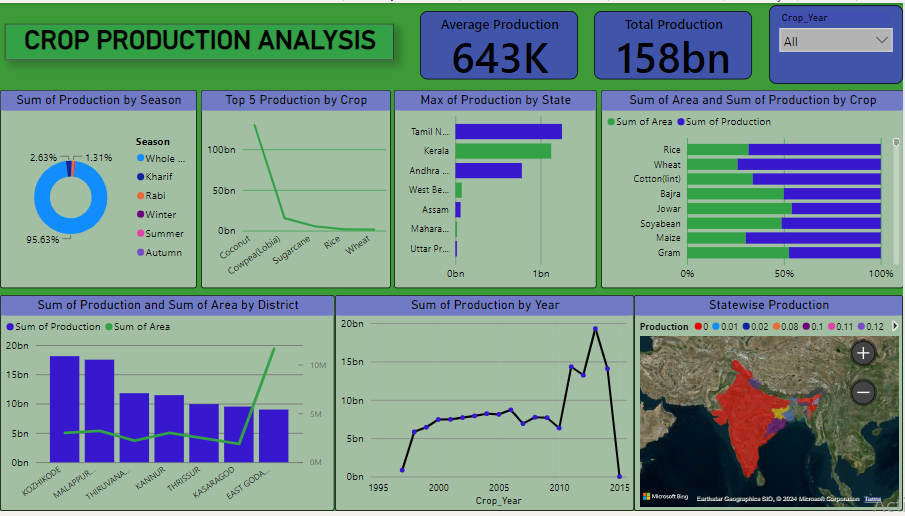

The dashboard page shown, as its layout file describes it:
{"tool":"powerbi","page":{"name":"Page 1","canvas":[1280,720],"ordinal":0},"visuals":[{"type":"lineChart","title":"Sum of Production by Year","fields":{"Category":["Crop Production data.Crop_Year"],"Y":["Sum(Crop Production data.Production)"]},"box":[474.3,414.3,424.3,305.7],"z":0},{"type":"donutChart","fields":{"Category":["Crop Production data.Season"],"Y":["Sum(Crop Production data.Production)"]},"box":[0,122.9,278.6,281.4],"z":1000},{"type":"clusteredBarChart","title":"Max of Production by State","fields":{"Y":["Max(Crop Production data.Production)"],"Category":["Crop Production data.State_Name"]},"box":[558.6,122.9,287.1,281.4],"z":2000},{"type":"lineChart","title":"Top 5 Production by Crop","fields":{"Category":["Crop Production data.Crop"],"Y":["Sum(Crop Production data.Production)"]},"box":[284.3,122.9,268.6,281.4],"z":3000},{"type":"hundredPercentStackedBarChart","fields":{"Category":["Crop Production data.Crop"],"Y":["Sum(Crop Production data.Area)","Sum(Crop Production data.Production)"]},"box":[851.4,122.9,428.6,281.4],"z":4000},{"type":"filledMap","title":"Statewise Production","fields":{"Series":["Crop Production data.Production"],"Category":["Crop Production data.State_Name"]},"box":[898.6,413.9,381.3,306.1],"z":5000},{"type":"lineClusteredColumnComboChart","title":"Sum of Production and Sum of Area by District","fields":{"Category":["Crop Production data.District_Name"],"Y":["Sum(Crop Production data.Production)"],"Y2":["Sum(Crop Production data.Area)"]},"box":[0,414.3,474.3,305.7],"z":6000},{"type":"card","title":"Average Production","fields":{"Values":["Avg(Crop Production data.Production)"]},"box":[595.7,11.4,224.3,97.1],"z":7000},{"type":"card","title":"Total Production","fields":{"Values":["Sum(Crop Production data.Production)"]},"box":[841.4,11.4,224.3,97.1],"z":8000},{"type":"slicer","fields":{"Values":["Crop Production data.Crop_Year"]},"box":[1089.9,2.8,189.9,112],"z":9000},{"type":"textbox","title":"CROP PRODUCTION ANALYSIS","box":[7.1,29.8,551.3,49.6],"z":10000}]}

Visuals, with their boxes in screenshot pixels (x1, y1, x2, y2), scaled from the page's 1280x720 canvas onto the 905x516 screenshot:
"Sum of Production by Year" lineChart: 335:297:635:515
donutChart - Crop Production data.Season x Sum(Crop Production data.Production): 0:88:197:290
"Max of Production by State" clusteredBarChart: 395:88:598:290
"Top 5 Production by Crop" lineChart: 201:88:391:290
hundredPercentStackedBarChart - Crop Production data.Crop x Sum(Crop Production data.Area): 602:88:904:290
"Statewise Production" filledMap: 635:297:904:515
"Sum of Production and Sum of Area by District" lineClusteredColumnComboChart: 0:297:335:515
"Average Production" card: 421:8:580:78
"Total Production" card: 595:8:753:78
slicer - Crop Production data.Crop_Year: 771:2:904:82
"CROP PRODUCTION ANALYSIS" textbox: 5:21:395:57
